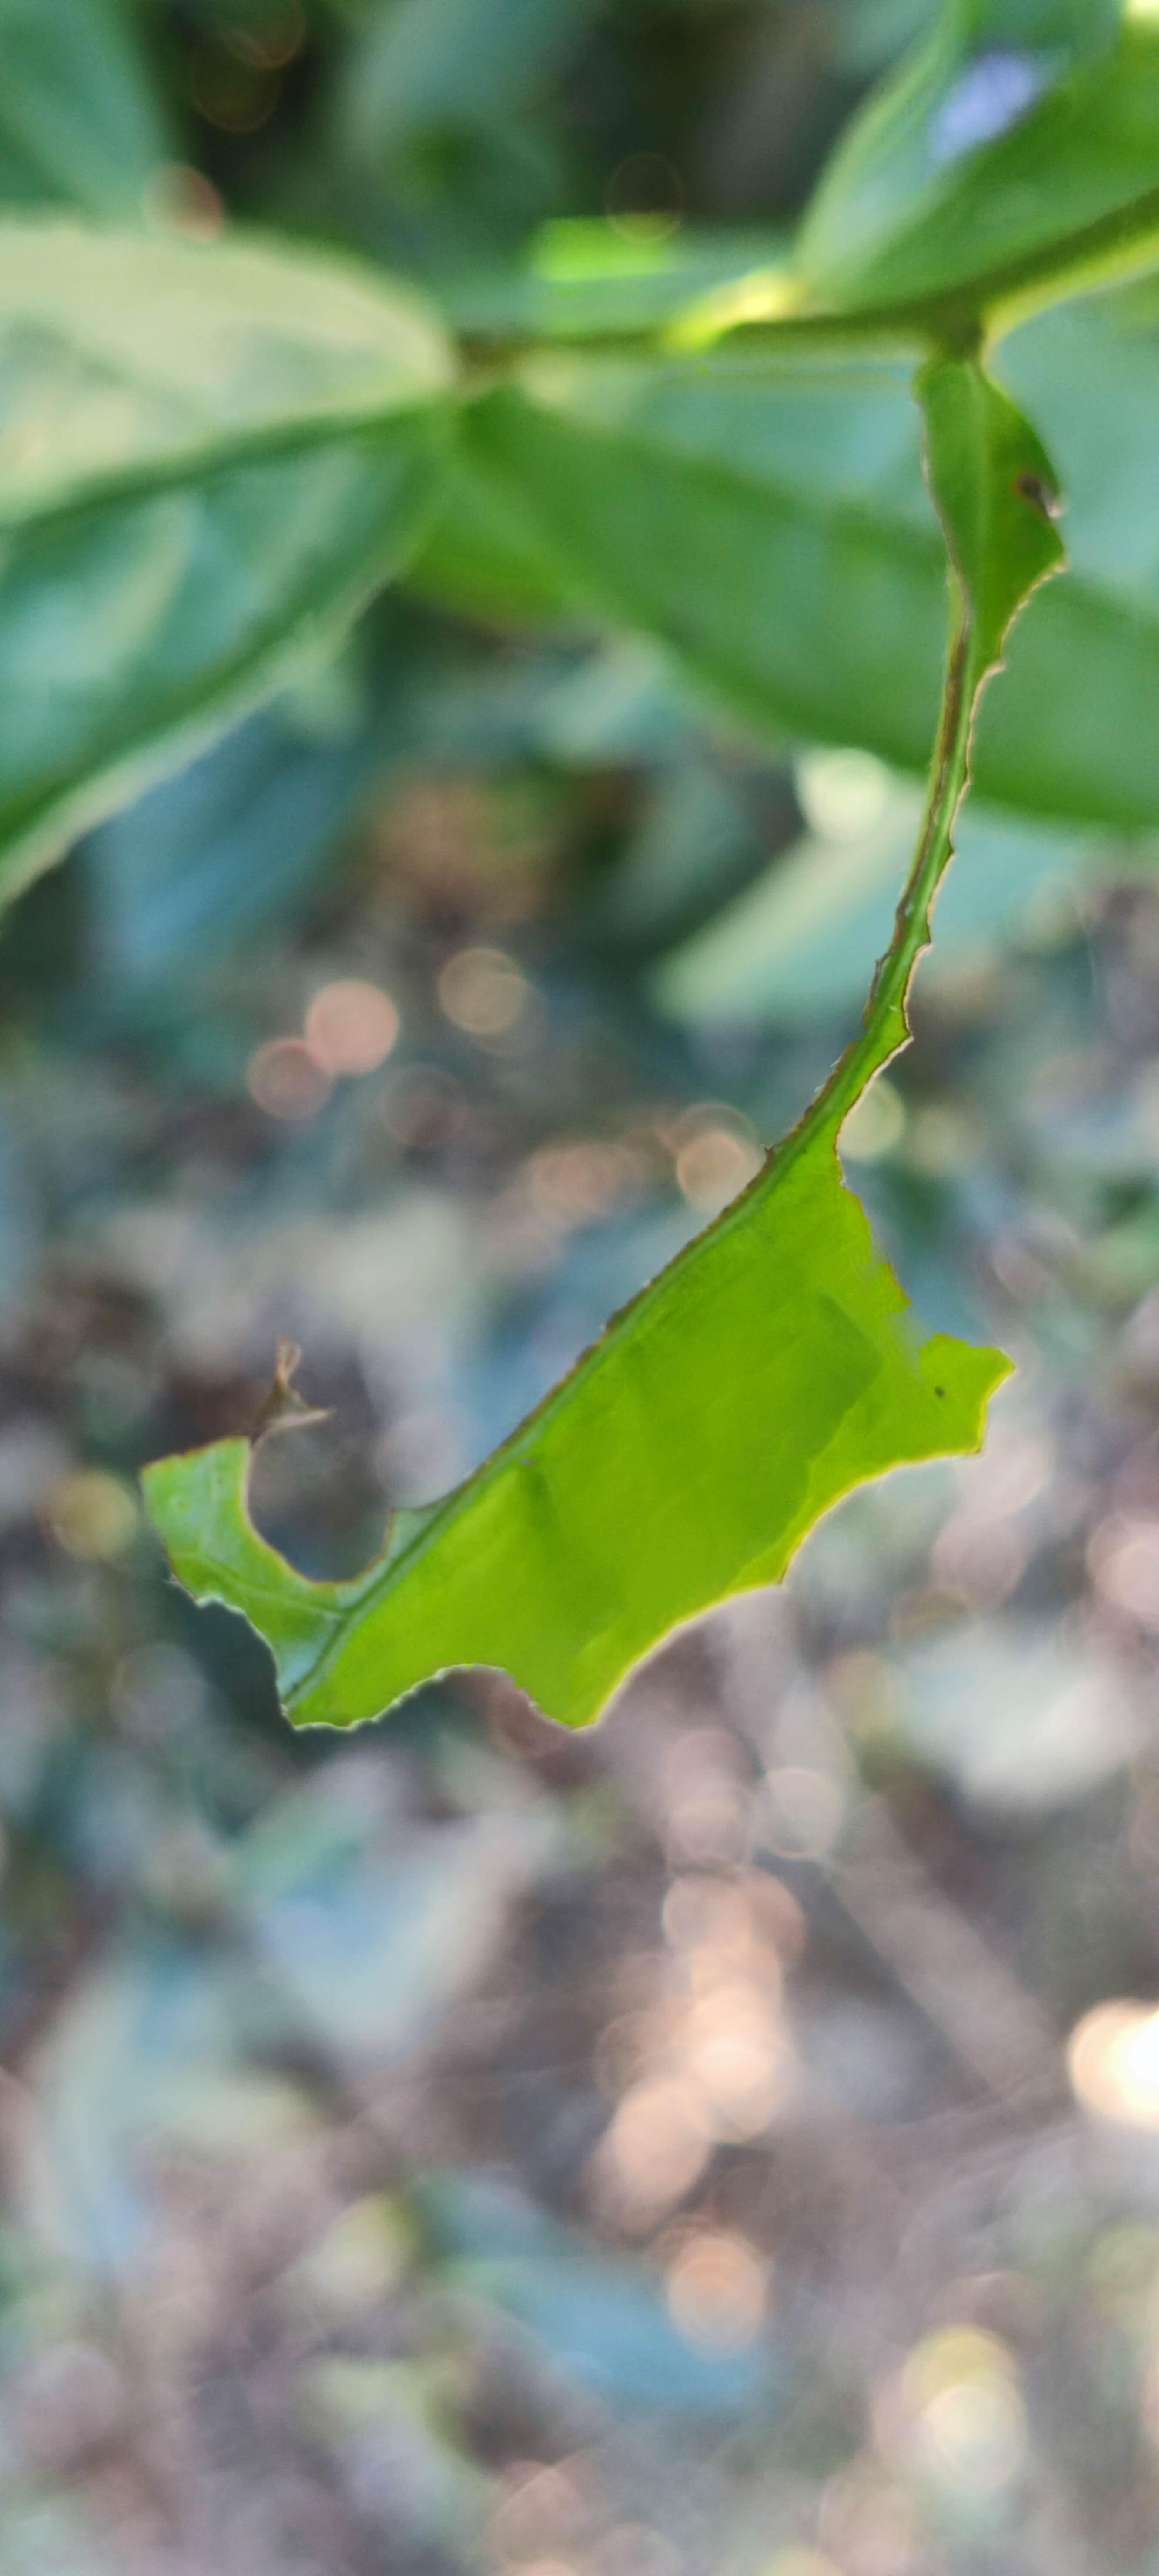chihuo_high: (140, 360, 1080, 1745)
